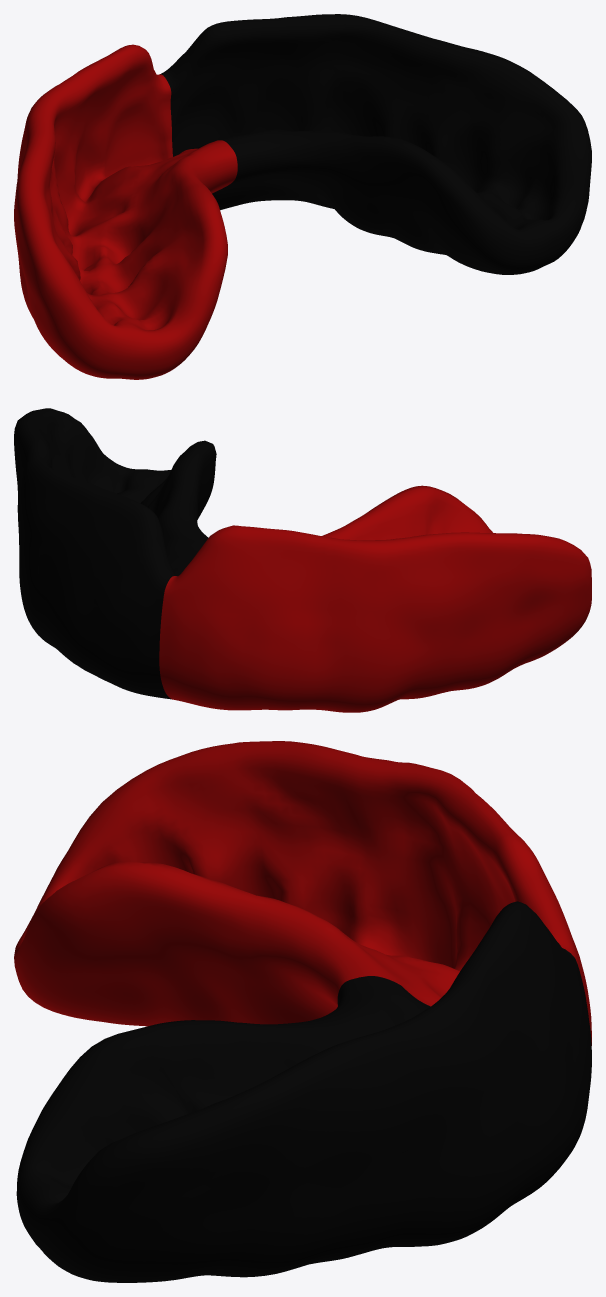
File: mouthguard_2color.FBX
3 renders of one model, top to bottom at view 1: azimuth 30°, elevation 25°; view 2: azimuth 150°, elevation 25°; view 3: azimuth 270°, elevation 25°, orthographic. The views are drawn at different scales.
Visible parts, largest first — view 1: Object002, teasguard001; view 2: teasguard001, Object002; view 3: Object002, teasguard001.
Part boxes in pixels (<box>): Object002: <box>160,14,591,274</box>; teasguard001: <box>14,44,237,379</box>; teasguard001: <box>159,485,591,712</box>; Object002: <box>14,408,216,699</box>; Object002: <box>16,901,591,1282</box>; teasguard001: <box>14,741,591,1045</box>.
Bounding box in the file's own units: 4546 × 1525 × 2862.
